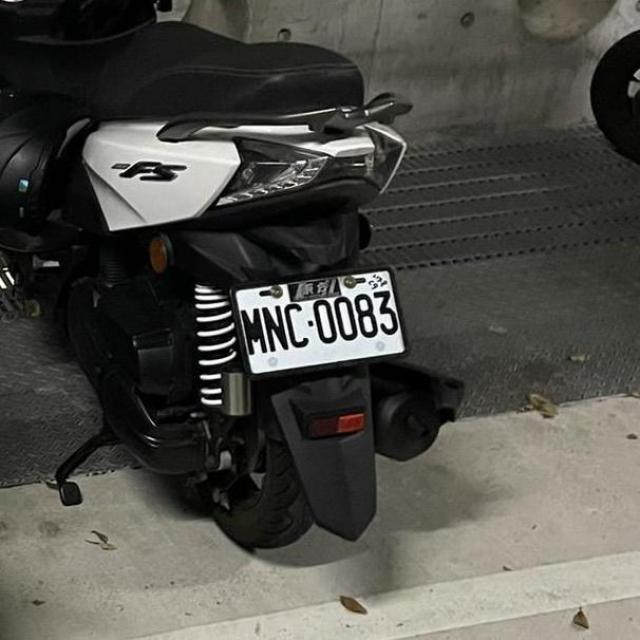W: (224, 260, 408, 378)
